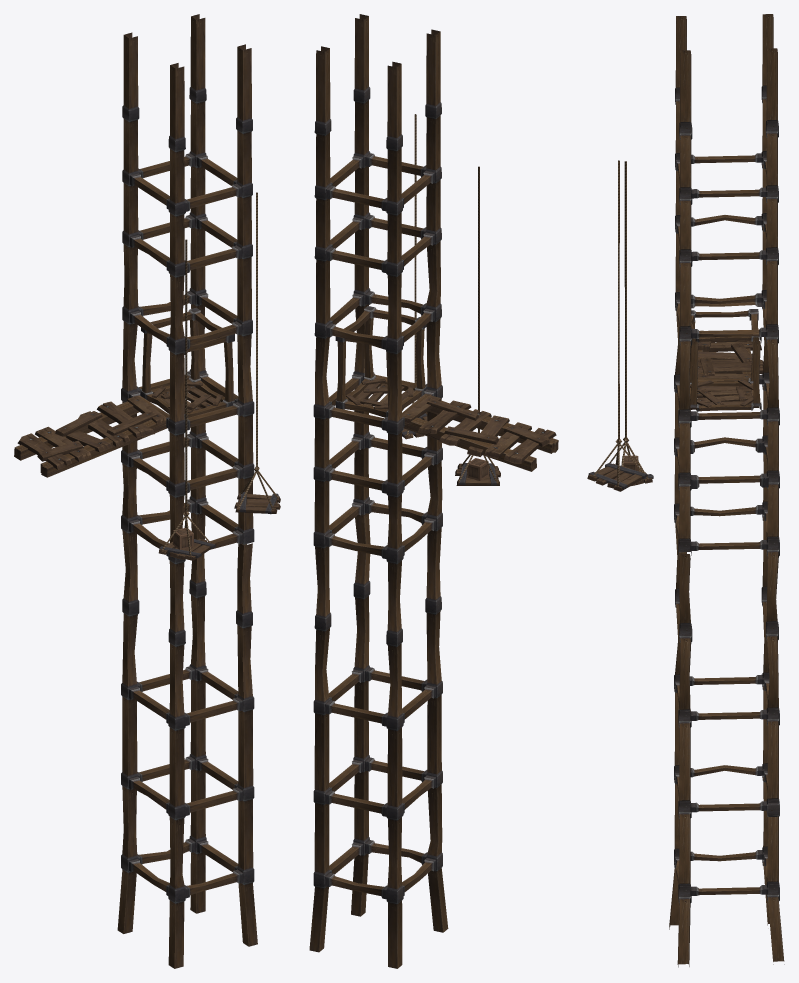
File: 6001_Item_daolu_3.FBX
The picture shows the model from 3 angles, left to right: view 1: azimuth 30°, elevation 25°; view 2: azimuth 150°, elevation 25°; view 3: azimuth 270°, elevation 25°; orthographic projection.
Visible parts, largest first — view 1: 6001_Item_daolu_3; view 2: 6001_Item_daolu_3; view 3: 6001_Item_daolu_3.
Part boxes in pixels (<box>): 6001_Item_daolu_3: <box>14,14,280,968</box>; 6001_Item_daolu_3: <box>309,14,558,968</box>; 6001_Item_daolu_3: <box>587,14,784,967</box>.
Size of the model in its own units: 714 by 2919 by 573.
